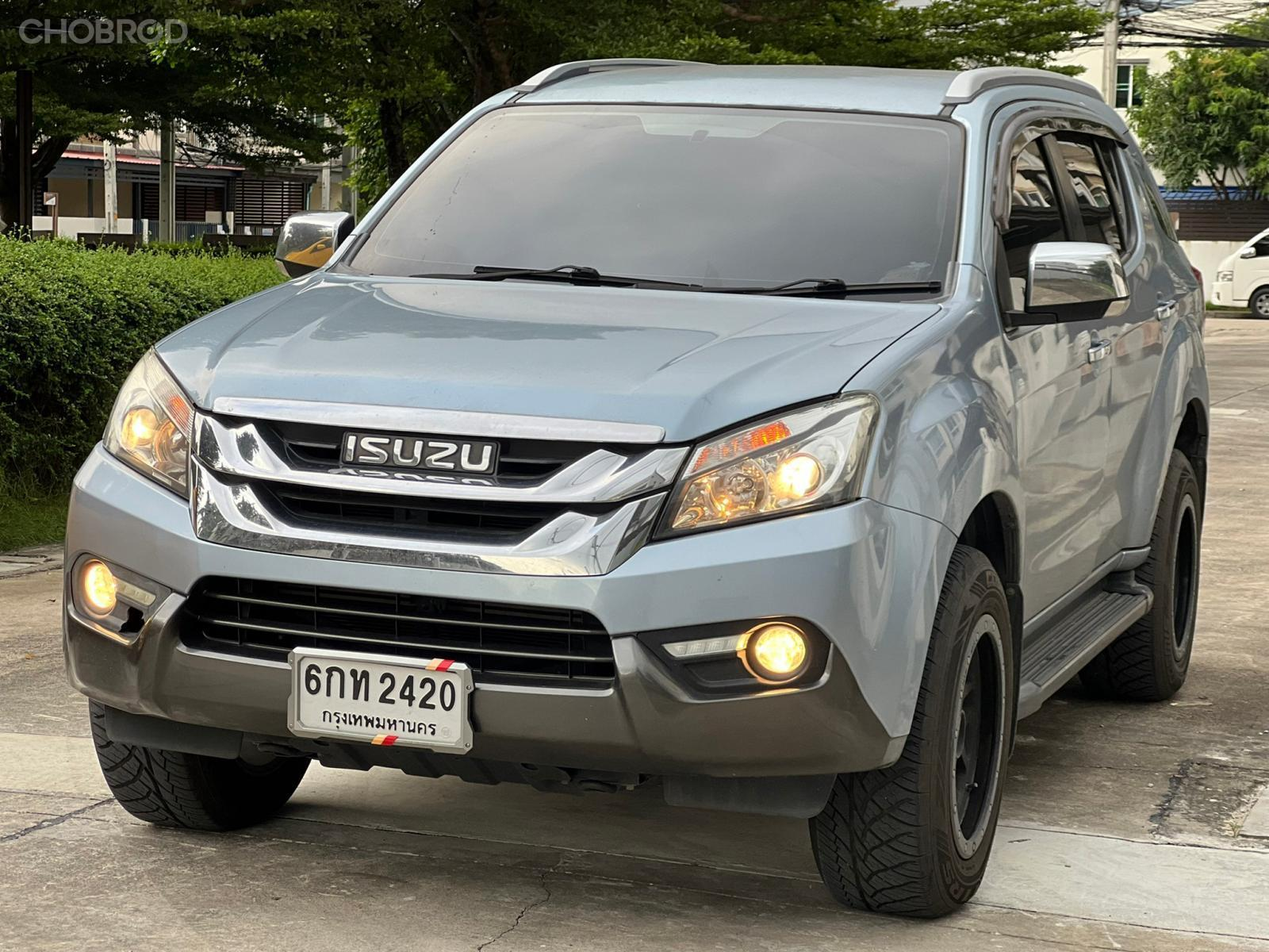license-plate: (286, 641, 476, 759)
